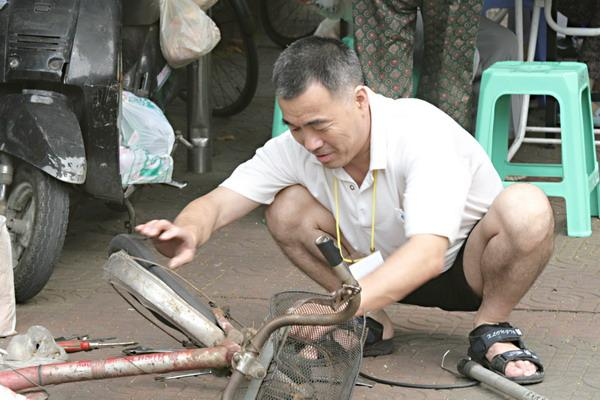person: (133, 36, 557, 377)
